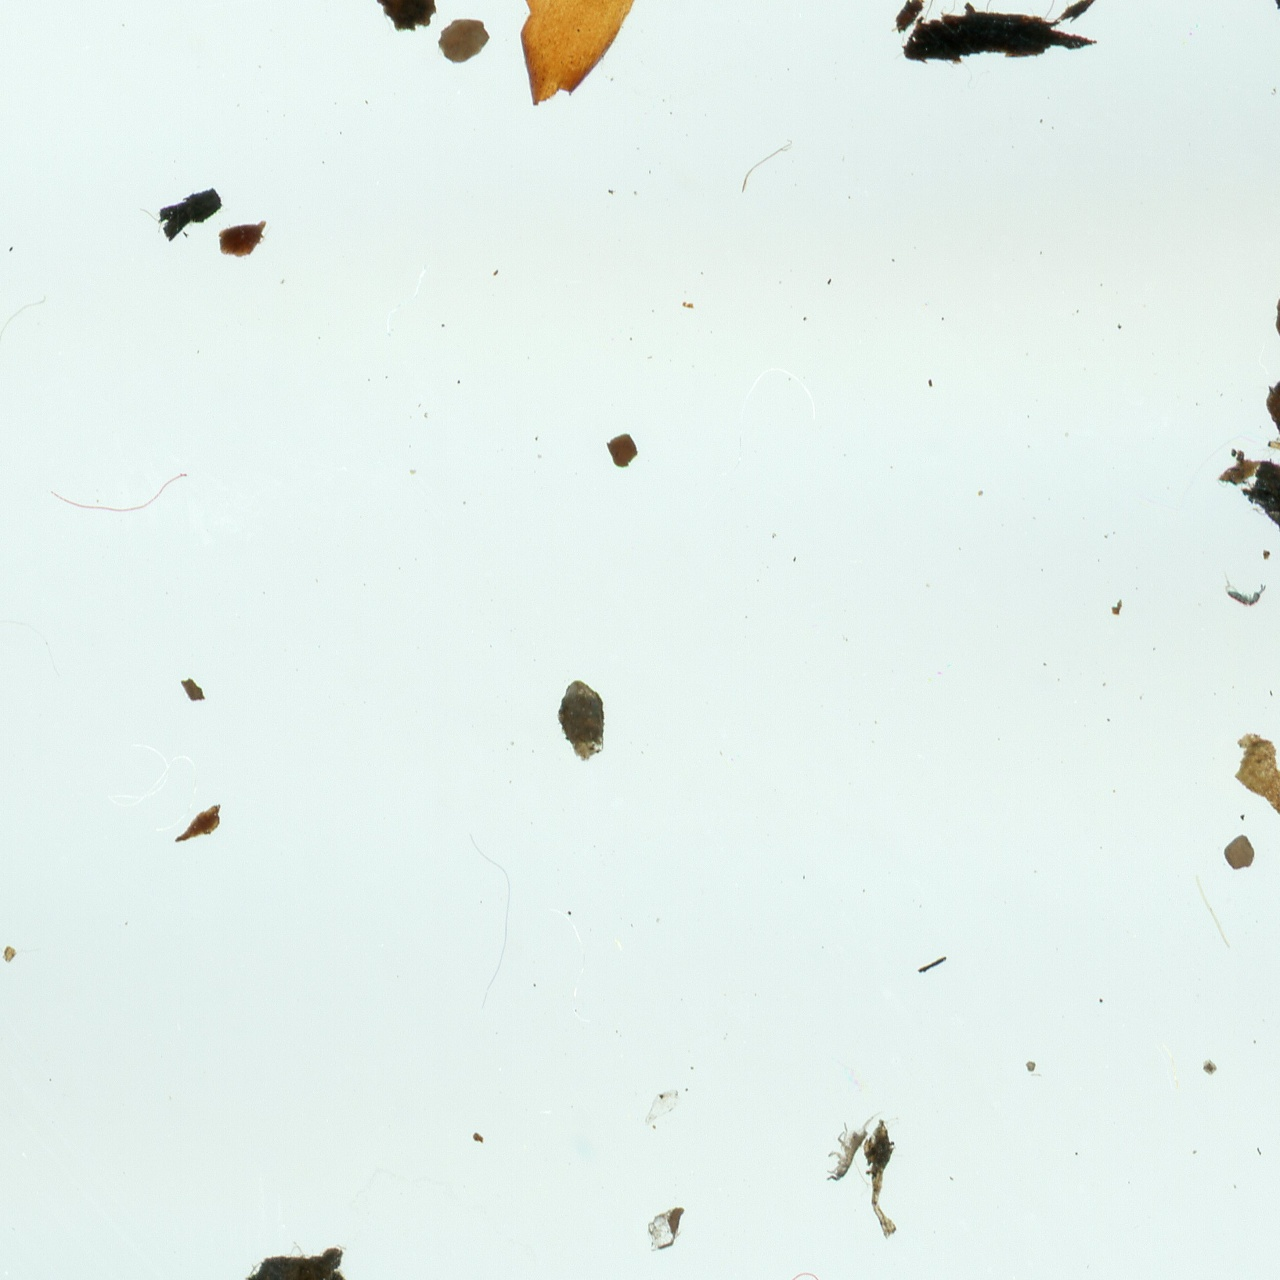arthropod: (811, 1093, 891, 1194), (1212, 563, 1272, 615)
